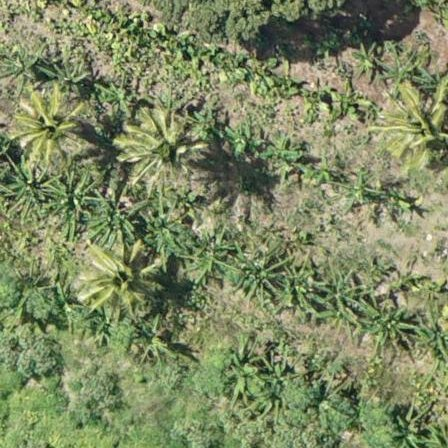palm_tree: (84, 241, 160, 313), (381, 90, 448, 168), (20, 93, 80, 157), (132, 119, 189, 179)
